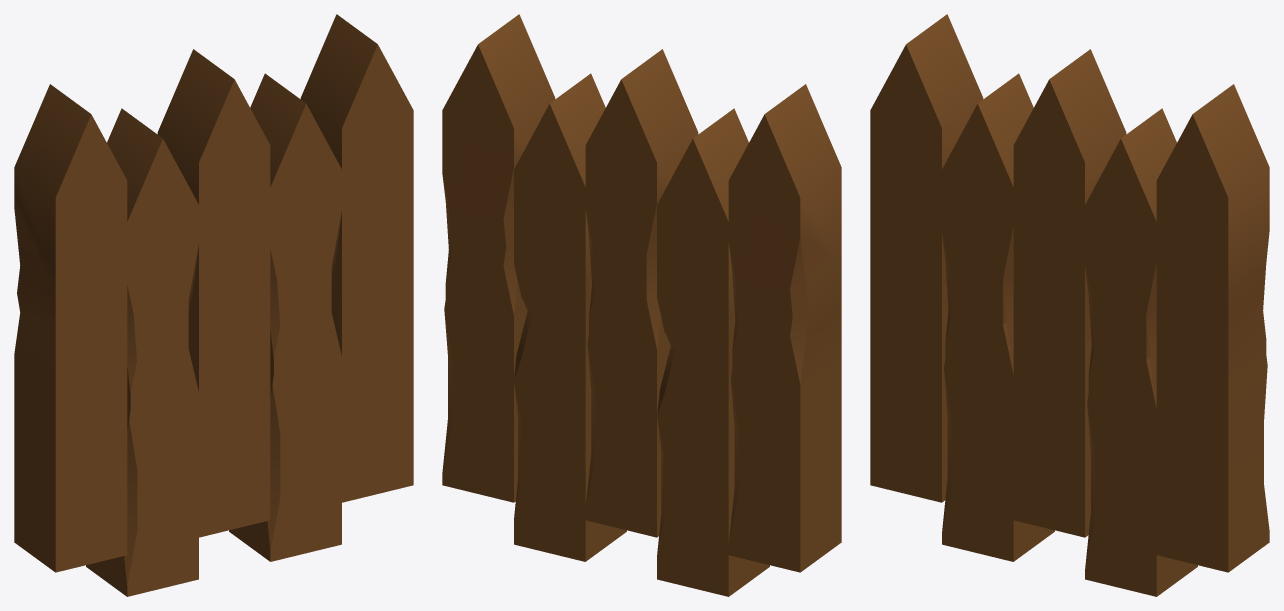
Rendered from Fence2.fbx.
The picture shows the model from 3 angles, left to right: view 1: azimuth 30°, elevation 25°; view 2: azimuth 150°, elevation 25°; view 3: azimuth 330°, elevation 25°; orthographic projection.
Parts seen in each view (by area): view 1: Cube.008, Cube.007, Cube.005, Cube.006, Cube.009; view 2: Cube.008, Cube.007, Cube.005, Cube.009, Cube.006; view 3: Cube.005, Cube.007, Cube.008, Cube.009, Cube.006.
Part boxes in pixels (left/top/right/bottom): Cube.008: left=14, top=84, right=127, bottom=572; Cube.007: left=157, top=49, right=270, bottom=537; Cube.005: left=300, top=14, right=413, bottom=502; Cube.006: left=229, top=73, right=341, bottom=561; Cube.009: left=86, top=108, right=198, bottom=596; Cube.008: left=728, top=84, right=841, bottom=572; Cube.007: left=585, top=49, right=698, bottom=537; Cube.005: left=442, top=14, right=555, bottom=502; Cube.009: left=657, top=108, right=769, bottom=596; Cube.006: left=514, top=73, right=626, bottom=561; Cube.005: left=1156, top=84, right=1269, bottom=572; Cube.007: left=1013, top=49, right=1126, bottom=537; Cube.008: left=870, top=14, right=983, bottom=502; Cube.009: left=942, top=73, right=1054, bottom=561; Cube.006: left=1085, top=108, right=1197, bottom=596.
Bounding box in the file's own units: 0.5042 × 0.6558 × 0.1006.
